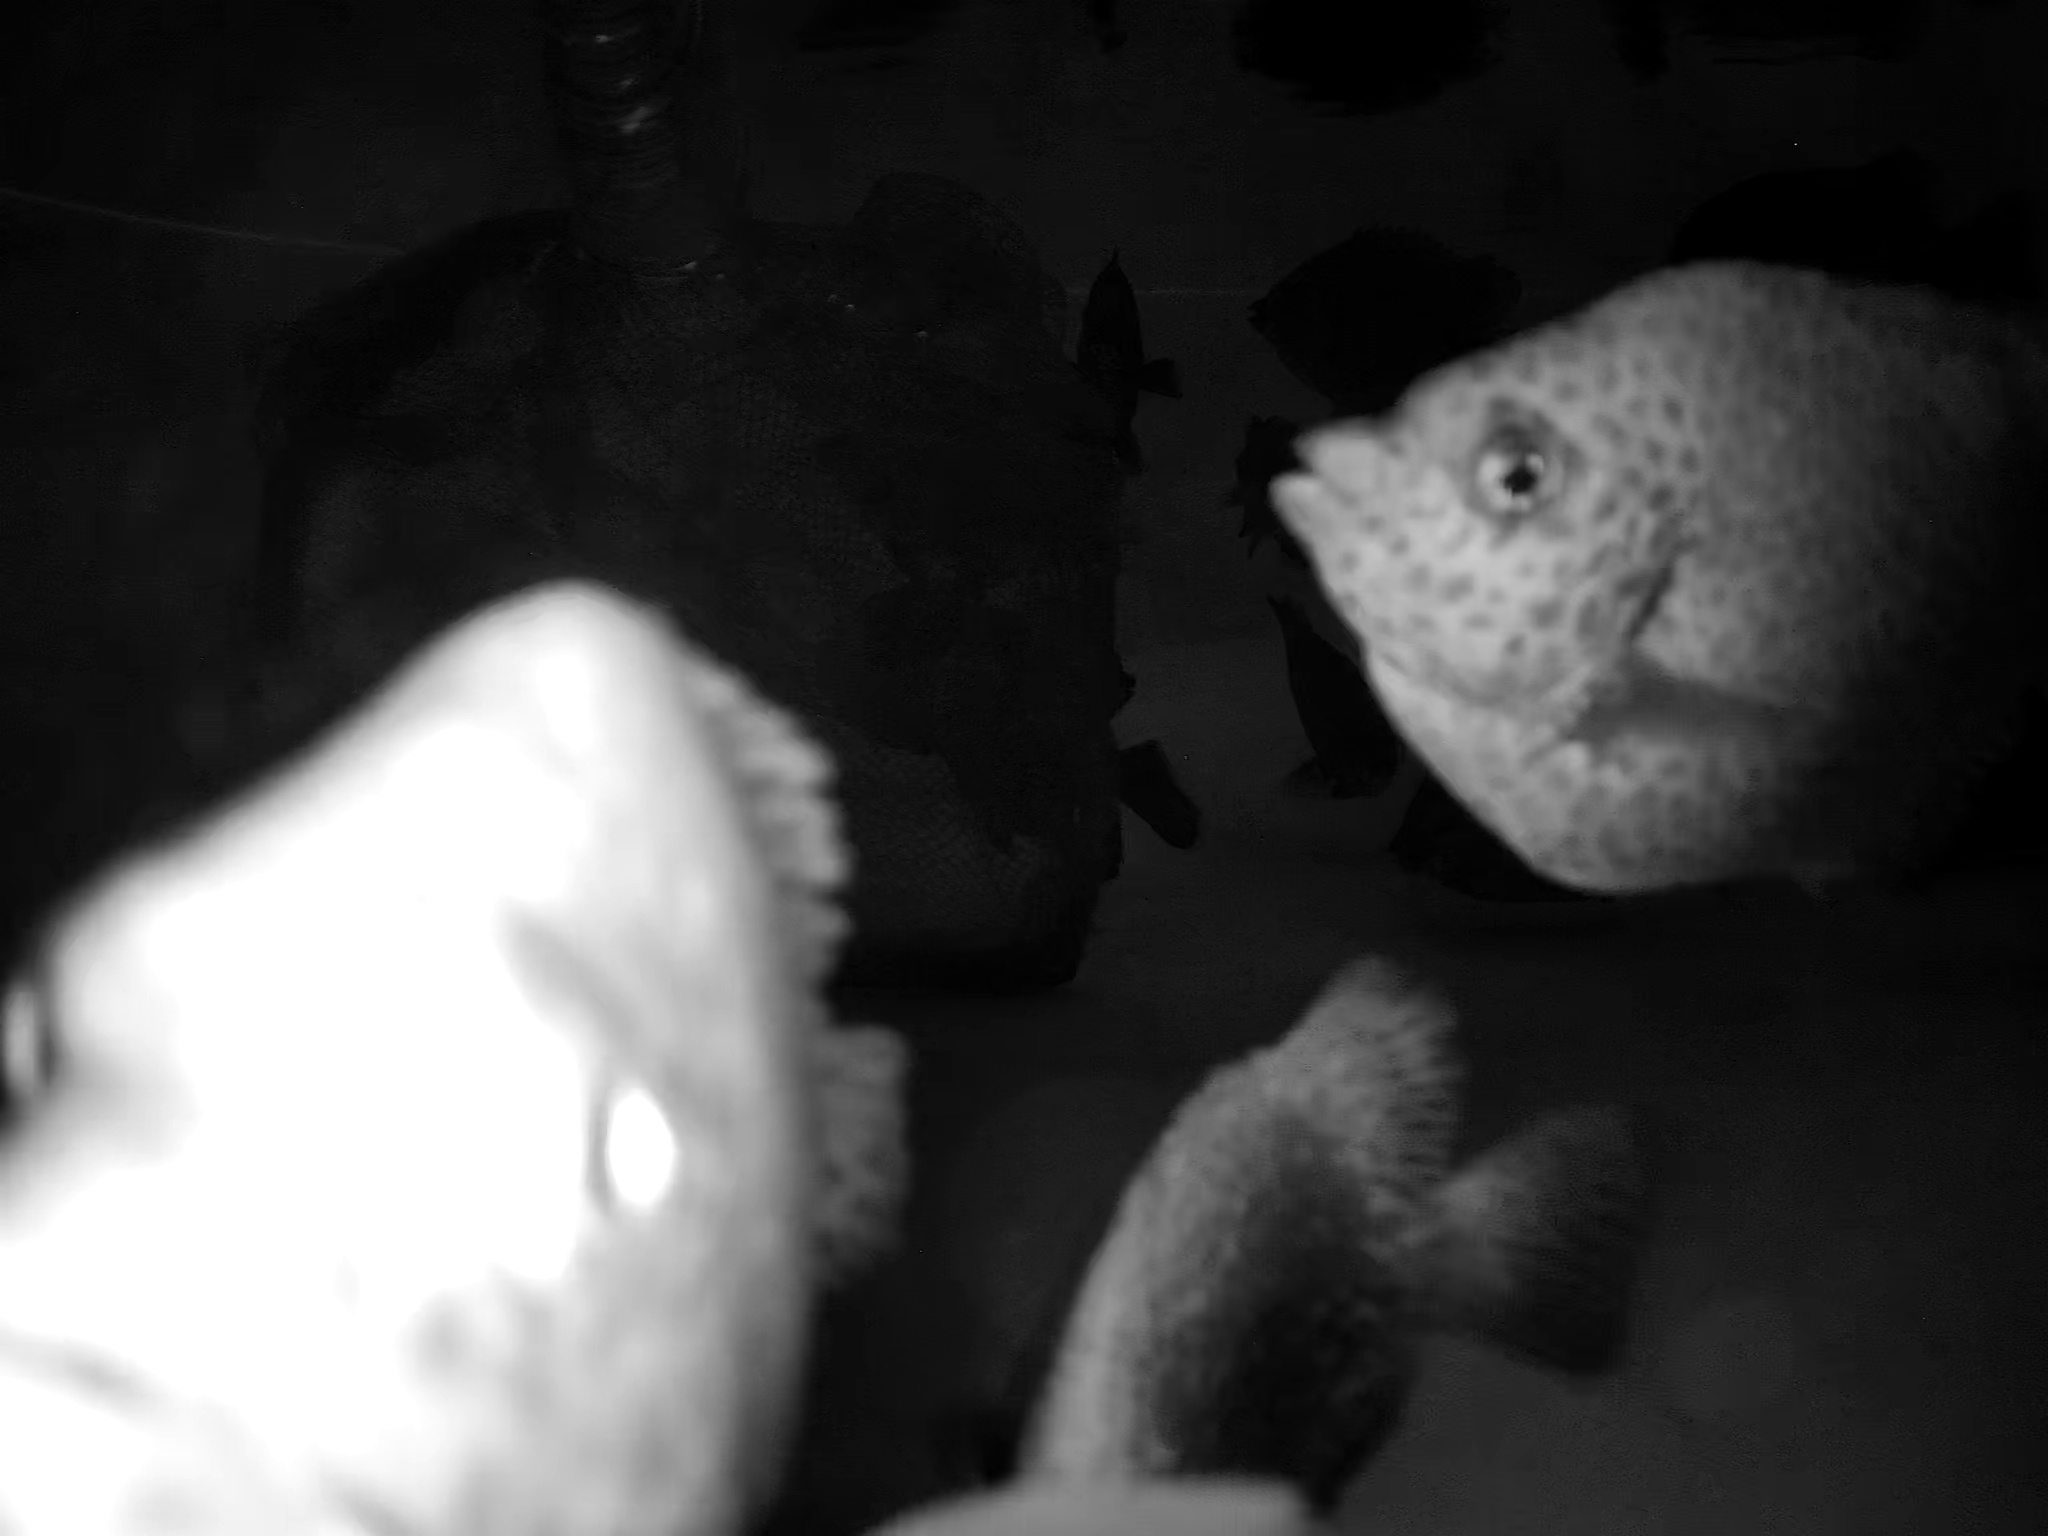fish: (2, 570, 926, 1533), (1266, 258, 2013, 899), (1043, 941, 1656, 1521)
